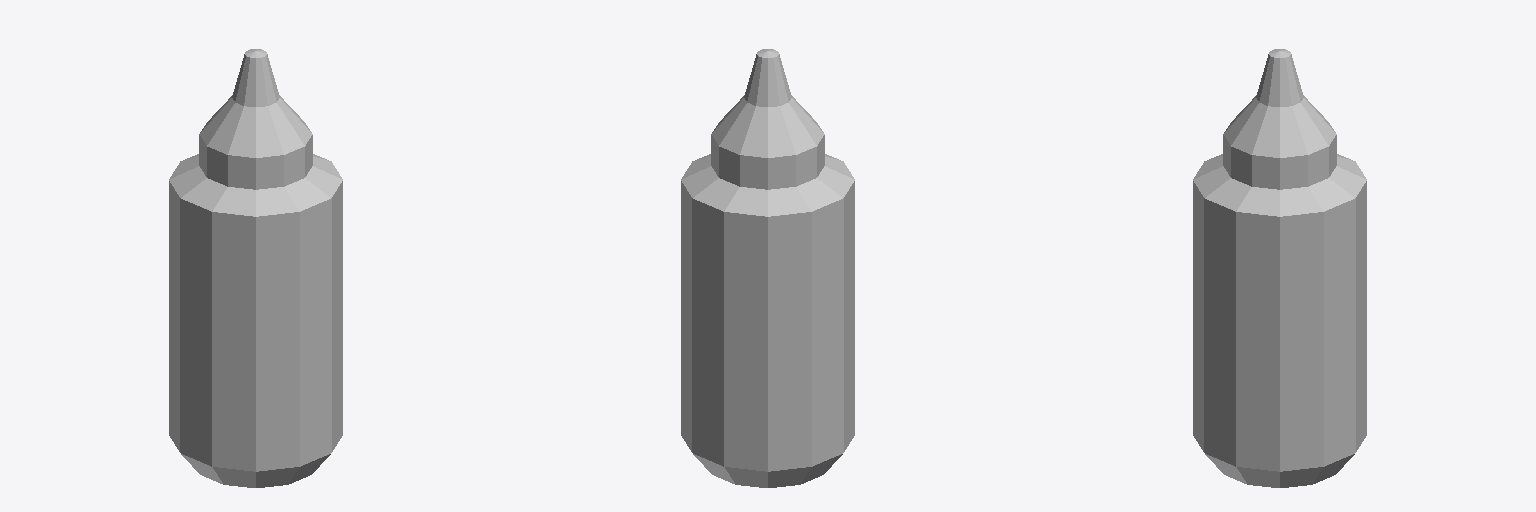
The model's file is ketchup.obj.
3 views of the same model, side by side, from view 1: azimuth 30°, elevation 25°; view 2: azimuth 150°, elevation 25°; view 3: azimuth 270°, elevation 25° (orthographic).
Visible parts, largest first — view 1: ketchup_Cylinder.157; view 2: ketchup_Cylinder.157; view 3: ketchup_Cylinder.157.
Part boxes in pixels (x1,y1,x2,y2): ketchup_Cylinder.157: (169, 49, 342, 487); ketchup_Cylinder.157: (681, 49, 854, 487); ketchup_Cylinder.157: (1193, 49, 1366, 487).
Size of the model in its own units: 0.3 by 0.7785 by 0.3.